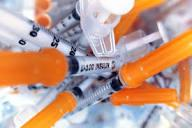Syringe: (22, 30, 191, 127), (0, 49, 134, 85), (0, 7, 84, 55), (14, 77, 92, 126), (114, 0, 166, 42), (110, 87, 177, 105), (0, 26, 39, 50), (51, 4, 79, 33), (177, 59, 191, 104)
